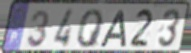2: (128, 7, 155, 50)
3: (154, 7, 184, 50), (26, 9, 51, 50)
4: (51, 7, 75, 50)
A: (98, 9, 127, 49)
Q: (76, 8, 105, 50)
